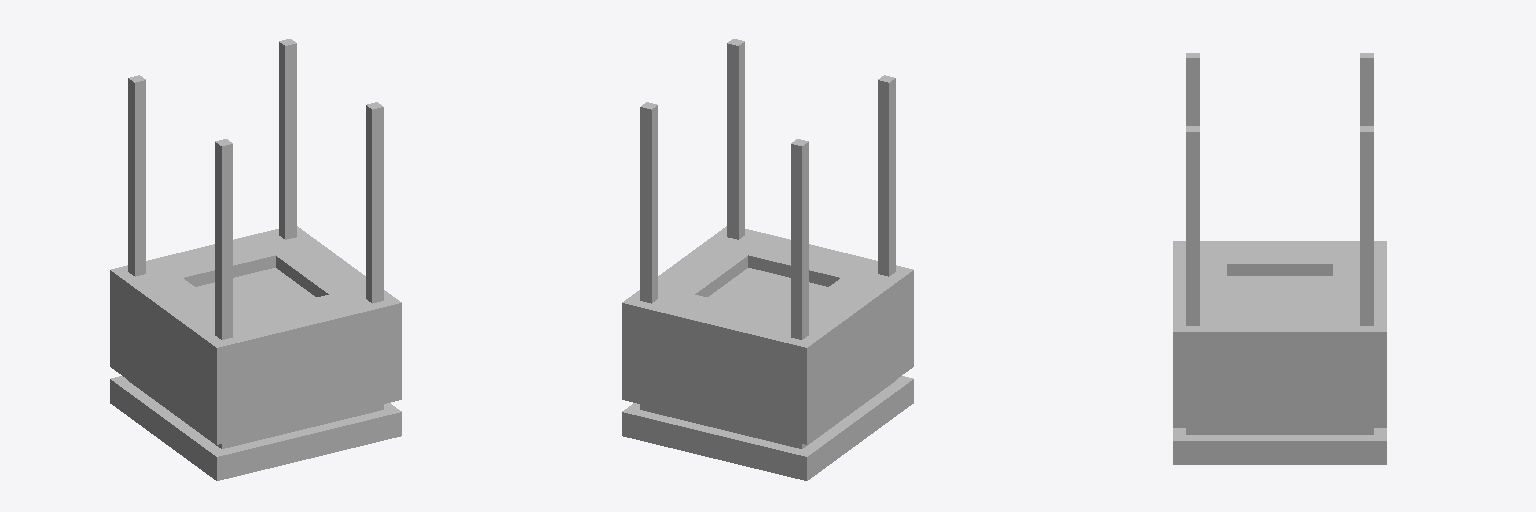
The model's file is vis_condenser.obj.
3 renders of one model, left to right at view 1: azimuth 30°, elevation 25°; view 2: azimuth 150°, elevation 25°; view 3: azimuth 270°, elevation 25°, orthographic.
Parts seen in each view (by area): view 1: cube.007; view 2: cube.007; view 3: cube.007.
Boxes of the visible parts, box(x1,y1,x2,y2) form: cube.007: box(110, 39, 401, 480); cube.007: box(622, 39, 913, 480); cube.007: box(1173, 53, 1386, 464).
Size of the model in its own units: 1 by 1.69 by 1.